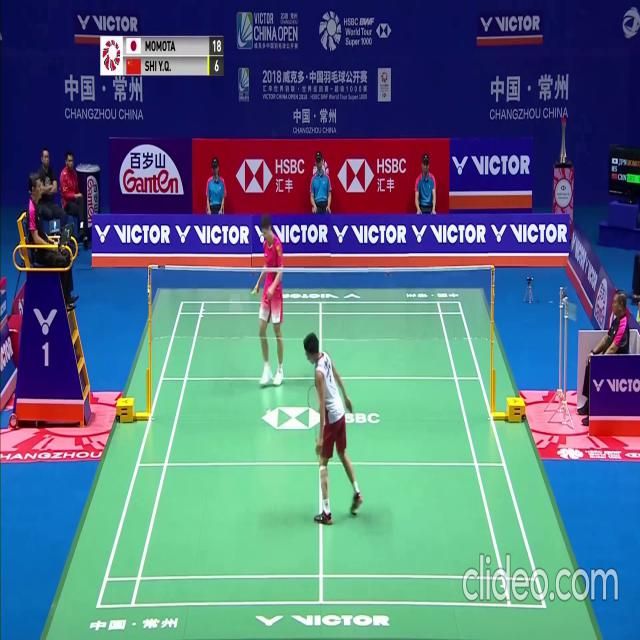Shuttlecock: (267, 408, 272, 416)
